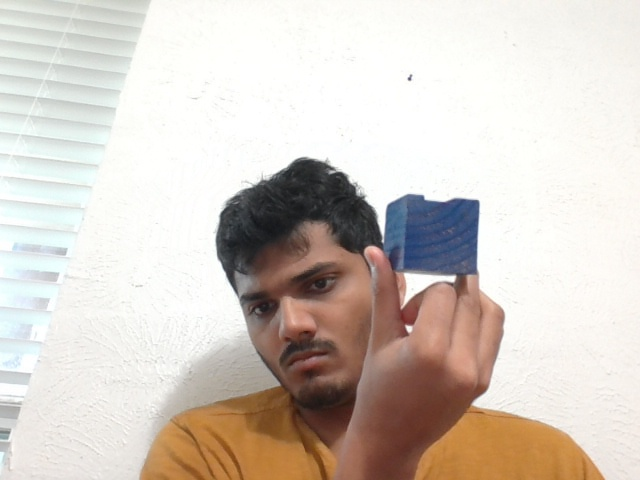BlueBlock: (384, 194, 479, 275)
